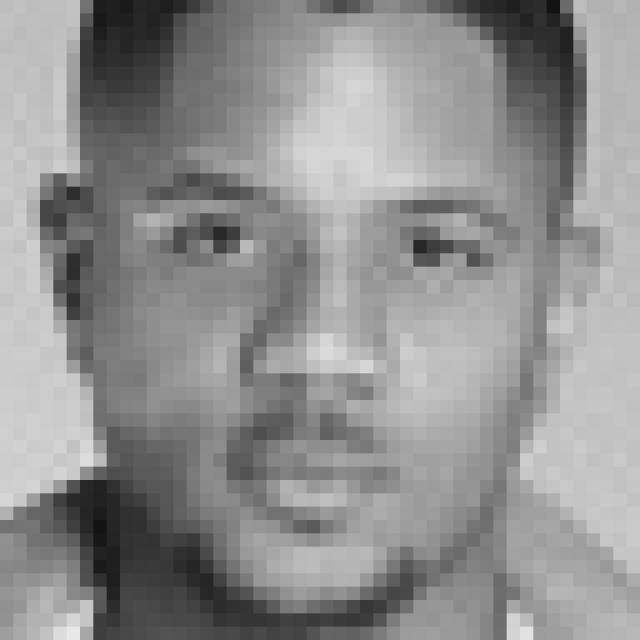neutral: (142, 160, 522, 546)
